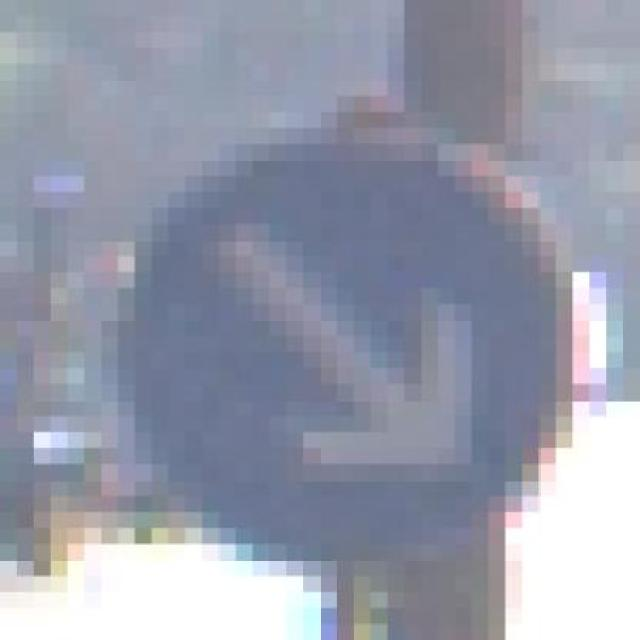Keep-Right: (118, 95, 573, 560)
